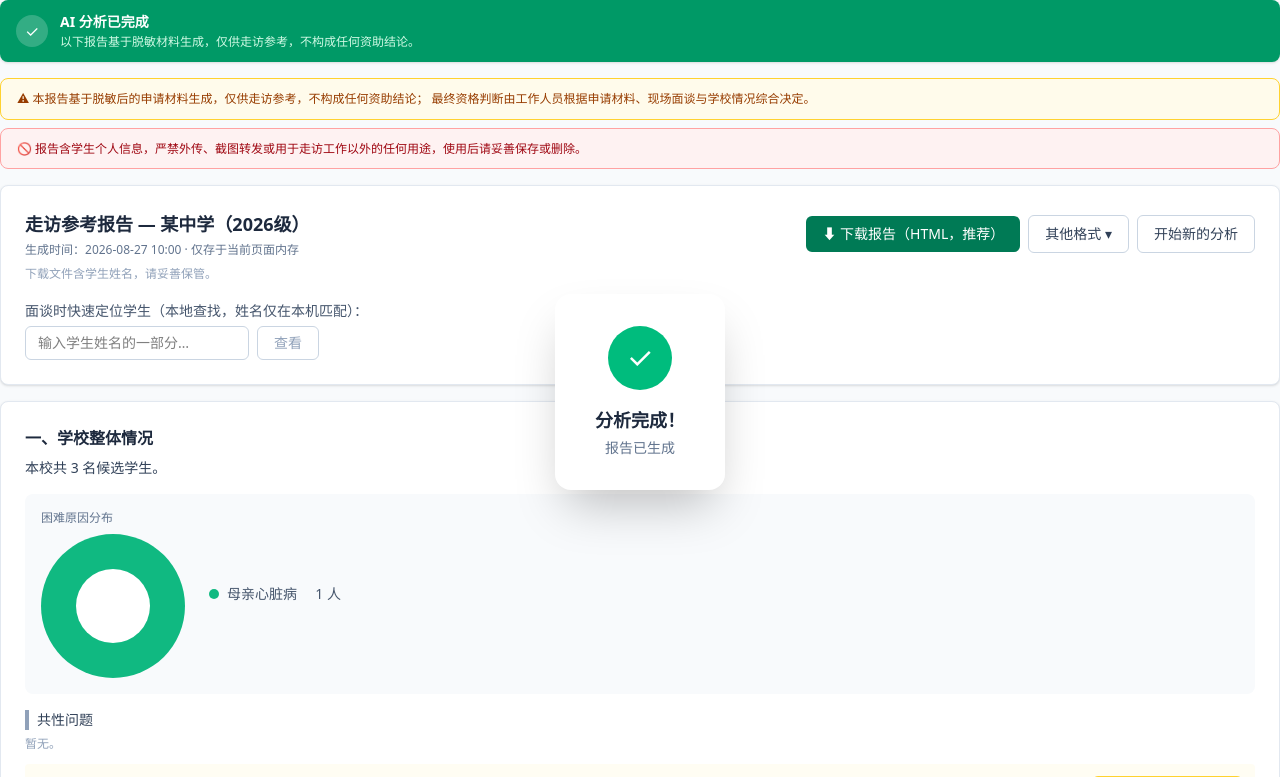
ReportStep（本地查找 + 模态框 + 成功动画） › 「查看」按钮打开第一个匹配学生的模态框；无匹配时禁用
Expected: the button "查看" is disabled, [257,326,319,360]
Type "王" into the dropdown with placeholder "输入学生姓名的一部分…" at coordinates (137, 343), box [25,326,249,360]
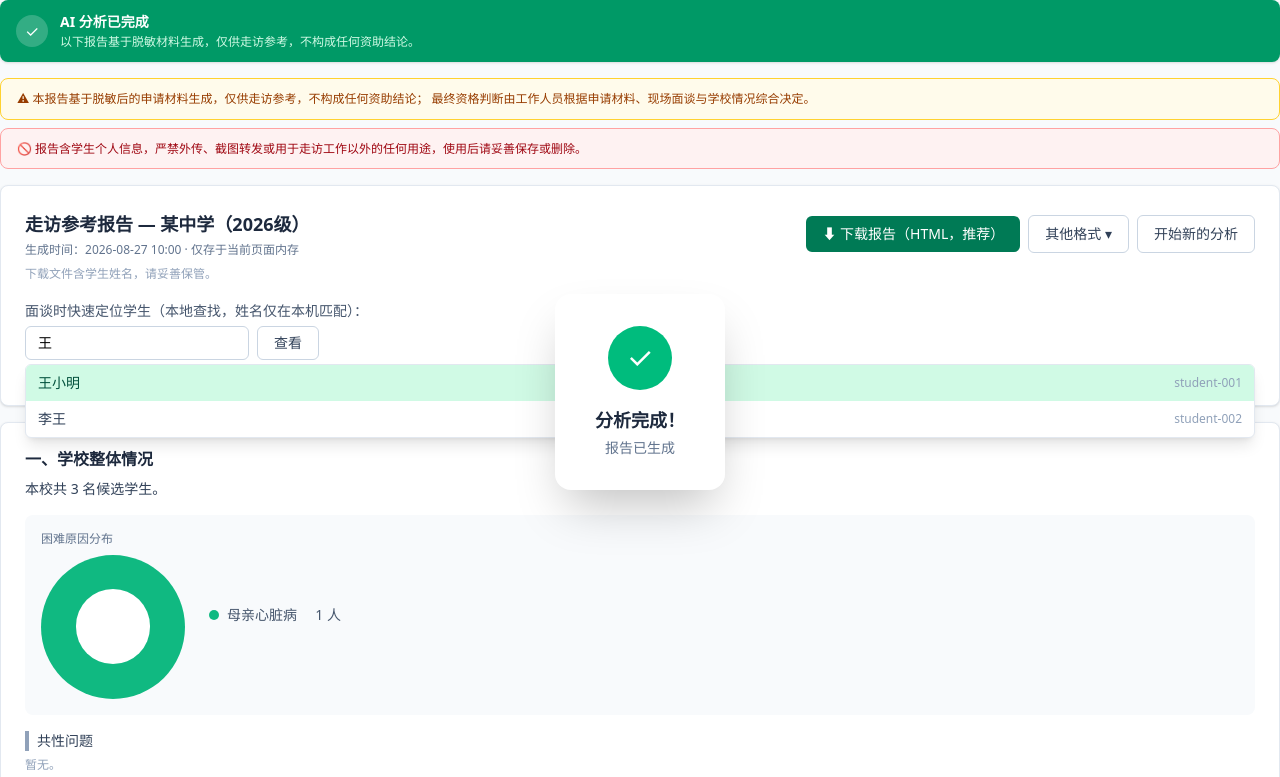
Expected: the button "查看" is enabled
Click the button "查看" at coordinates (288, 343), box [257,326,319,360]
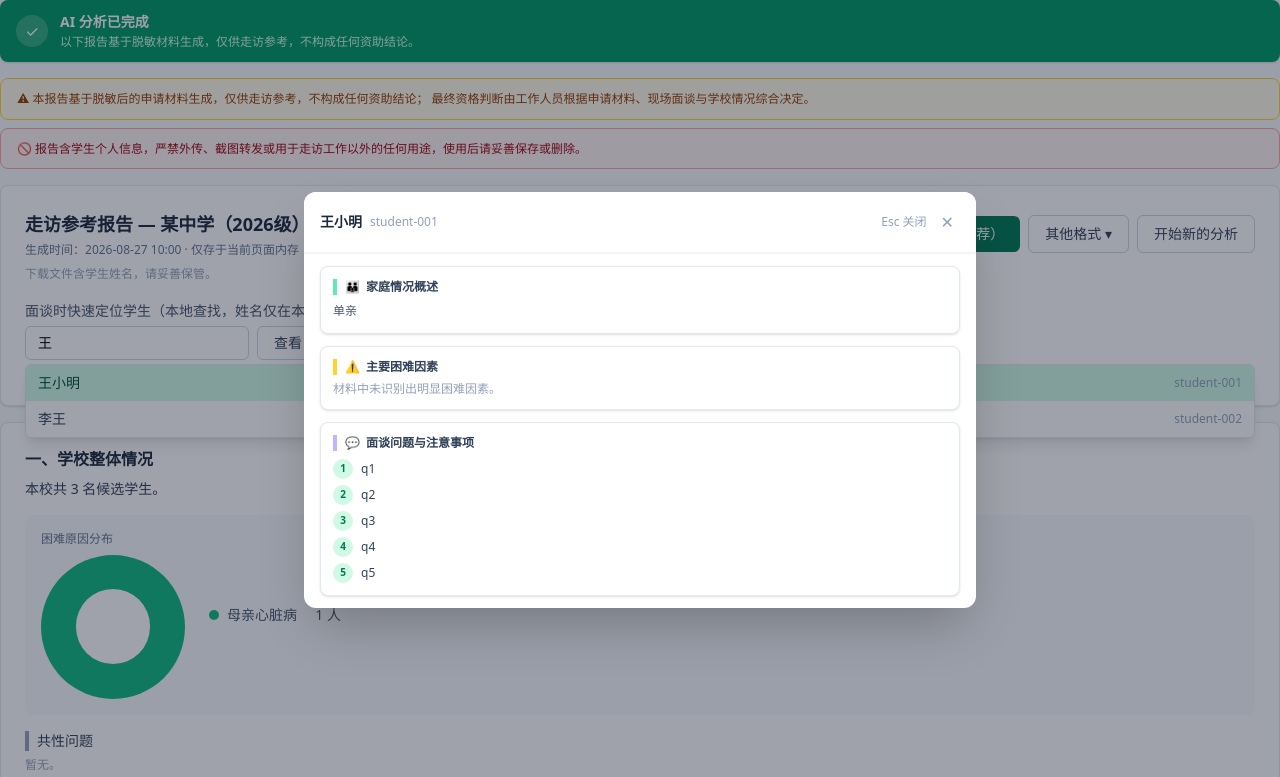
Expected: the heading "👪 家庭情况概述" is shown, [333,279,947,295]
